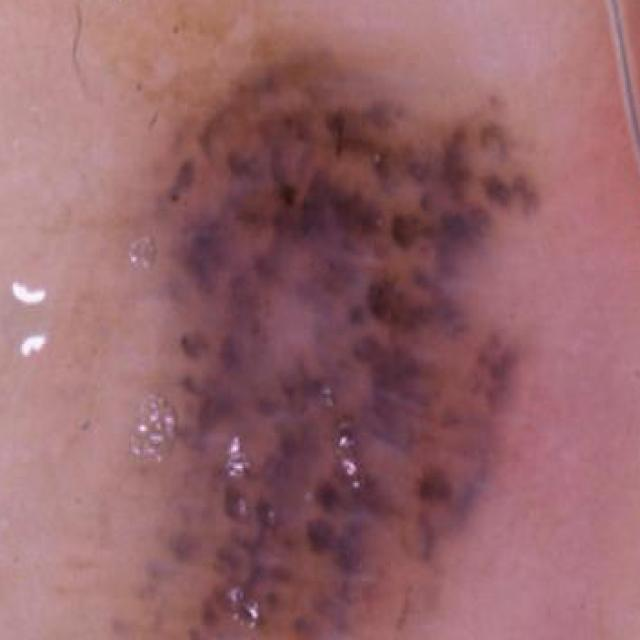NV: (113, 9, 560, 640)
